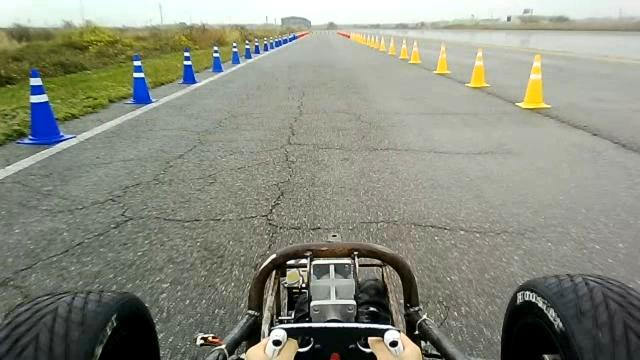blue cone: (15, 68, 76, 145), (124, 53, 156, 104), (178, 47, 199, 84), (210, 45, 224, 72), (230, 41, 241, 64), (244, 39, 252, 59), (253, 38, 261, 54), (262, 38, 269, 52), (268, 36, 274, 50), (282, 33, 288, 45)
yellow cone: (514, 54, 552, 110), (465, 47, 490, 88), (432, 42, 452, 74), (408, 39, 422, 64), (398, 38, 409, 59), (387, 36, 397, 55), (378, 36, 386, 52), (370, 35, 378, 49), (359, 33, 366, 45), (367, 34, 372, 48)
